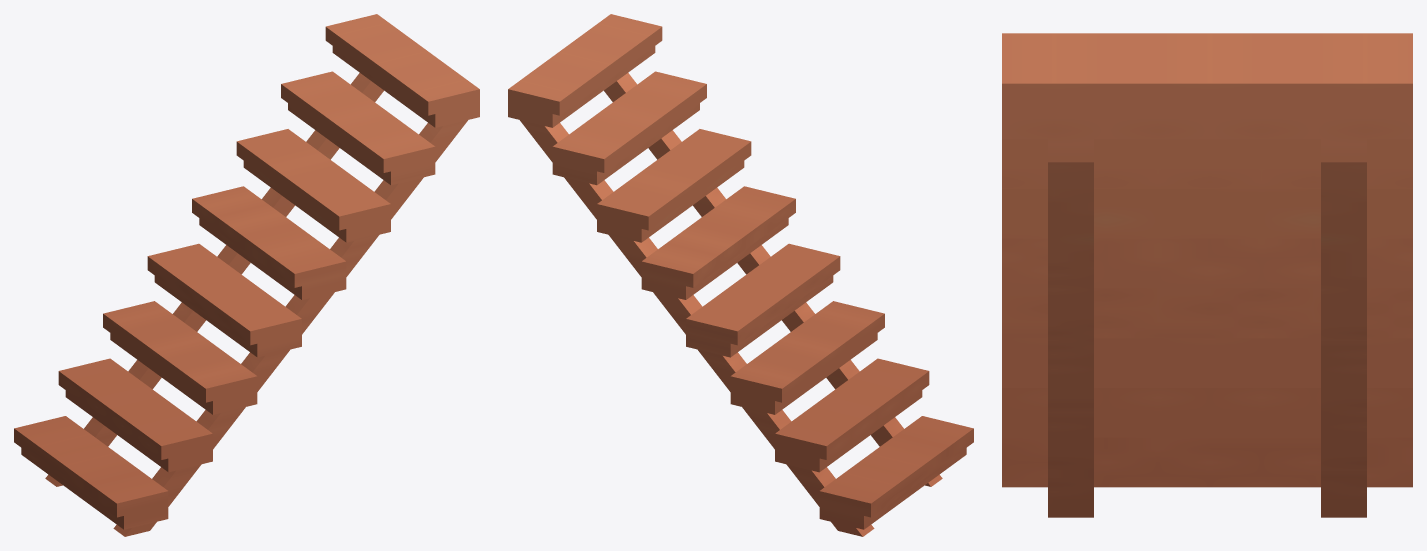
Rendered from stairsWood.fbx.
3 renders of one model, left to right at view 1: azimuth 30°, elevation 25°; view 2: azimuth 150°, elevation 25°; view 3: azimuth 270°, elevation 25°, orthographic. The views are drawn at different scales.
Visible parts, largest first — view 1: stairsWood; view 2: stairsWood; view 3: stairsWood.
Part boxes in pixels (bbox=[...]): stairsWood: bbox=[14, 14, 479, 536]; stairsWood: bbox=[508, 14, 973, 536]; stairsWood: bbox=[1002, 33, 1412, 517].
Size of the model in its own units: 1.02 by 0.5 by 1.
